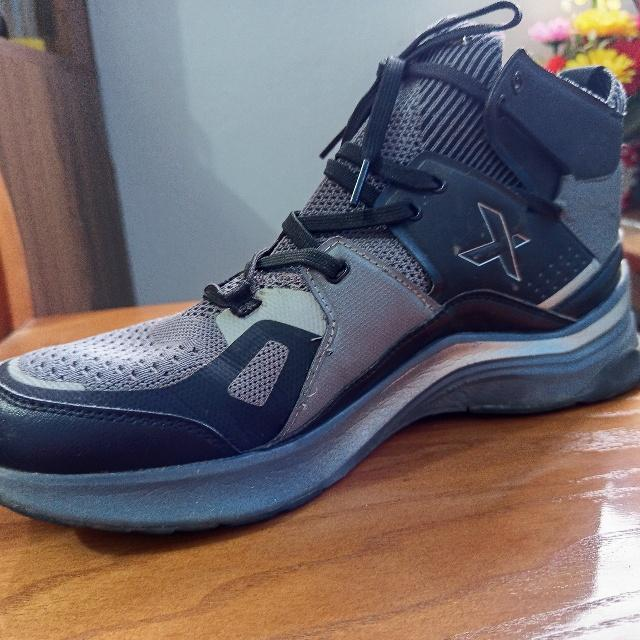broken-error: (299, 385, 321, 413)
